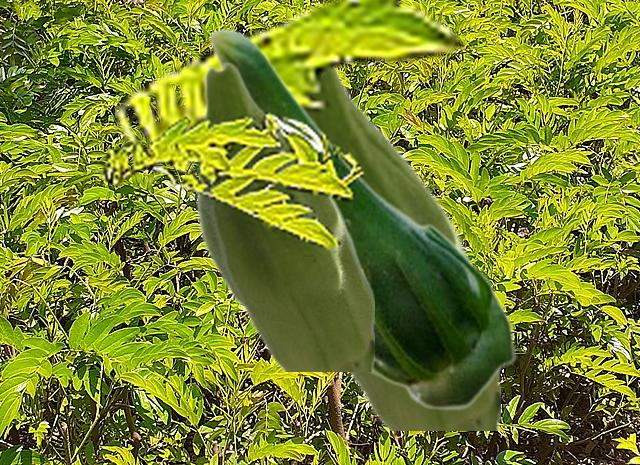okra: (208, 27, 516, 410), (311, 70, 499, 429), (195, 61, 373, 370)
